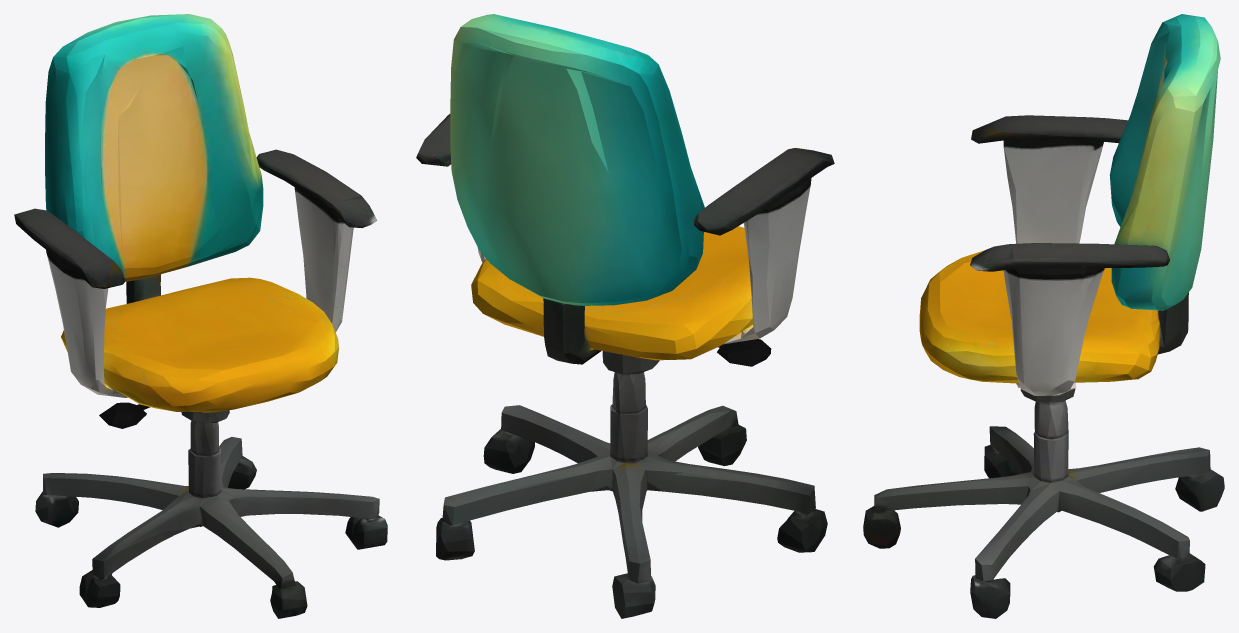
Rendered from chair.glb.
3 views of the same model, side by side, from view 1: azimuth 30°, elevation 25°; view 2: azimuth 150°, elevation 25°; view 3: azimuth 270°, elevation 25° (orthographic). The views are drawn at different scales.
Parts seen in each view (by area): view 1: model; view 2: model; view 3: model.
Part boxes in pixels (x1,y1,x2,y2): model: [14, 14, 387, 618]; model: [416, 14, 834, 618]; model: [863, 14, 1224, 618].
Bounding box in the file's own units: 1.21 × 1.9 × 1.24.
Materials: 1 (1 with a texture image).
